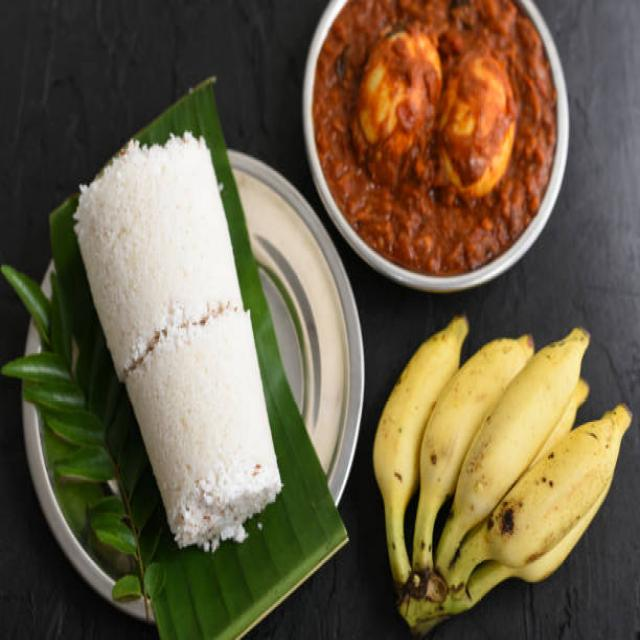BANANA: (371, 308, 636, 638)
EGG: (313, 0, 560, 277)
PUTTU: (69, 134, 284, 547)
